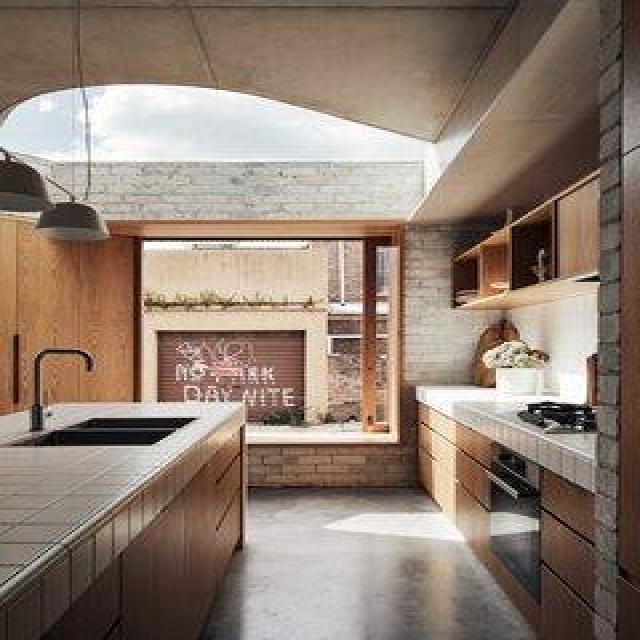dishwasher: (485, 448, 551, 604)
